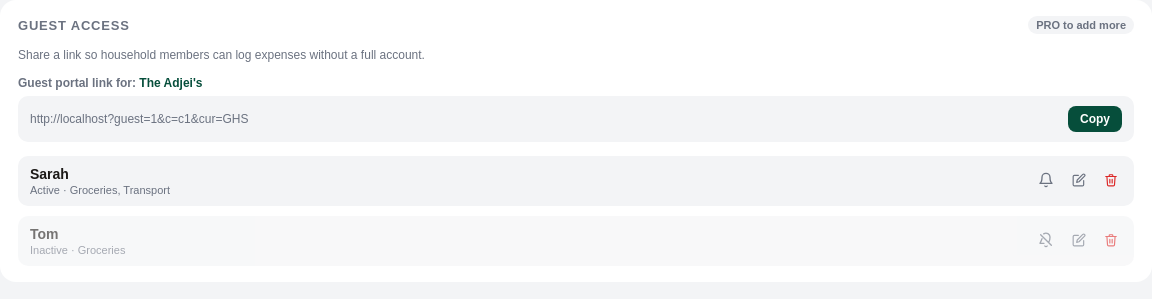
Test: GuestSettingsSection › shows confirm/cancel buttons when delete clicked
What coordinates should you click on to do the following:
click the button with test id "guest-delete-guest-1"
I would click on:
 (1111, 181)
Its box is [1100,168,1122,194].
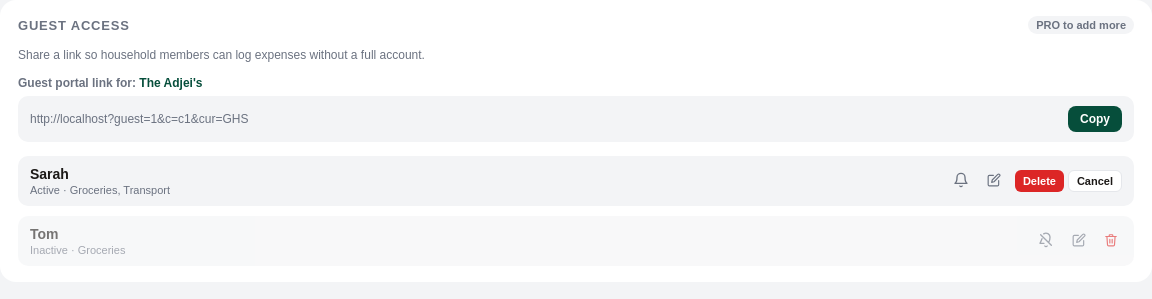
Expected: the button with test id "guest-delete-confirm-guest-1" is shown, [1015,170,1064,192]
